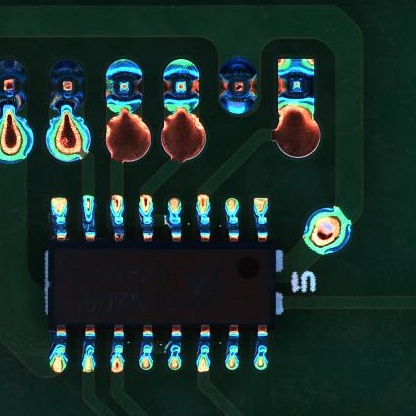spot: (217, 61, 258, 113), (105, 60, 145, 113), (164, 58, 200, 111), (50, 57, 86, 107), (278, 60, 315, 106), (1, 60, 26, 101)
